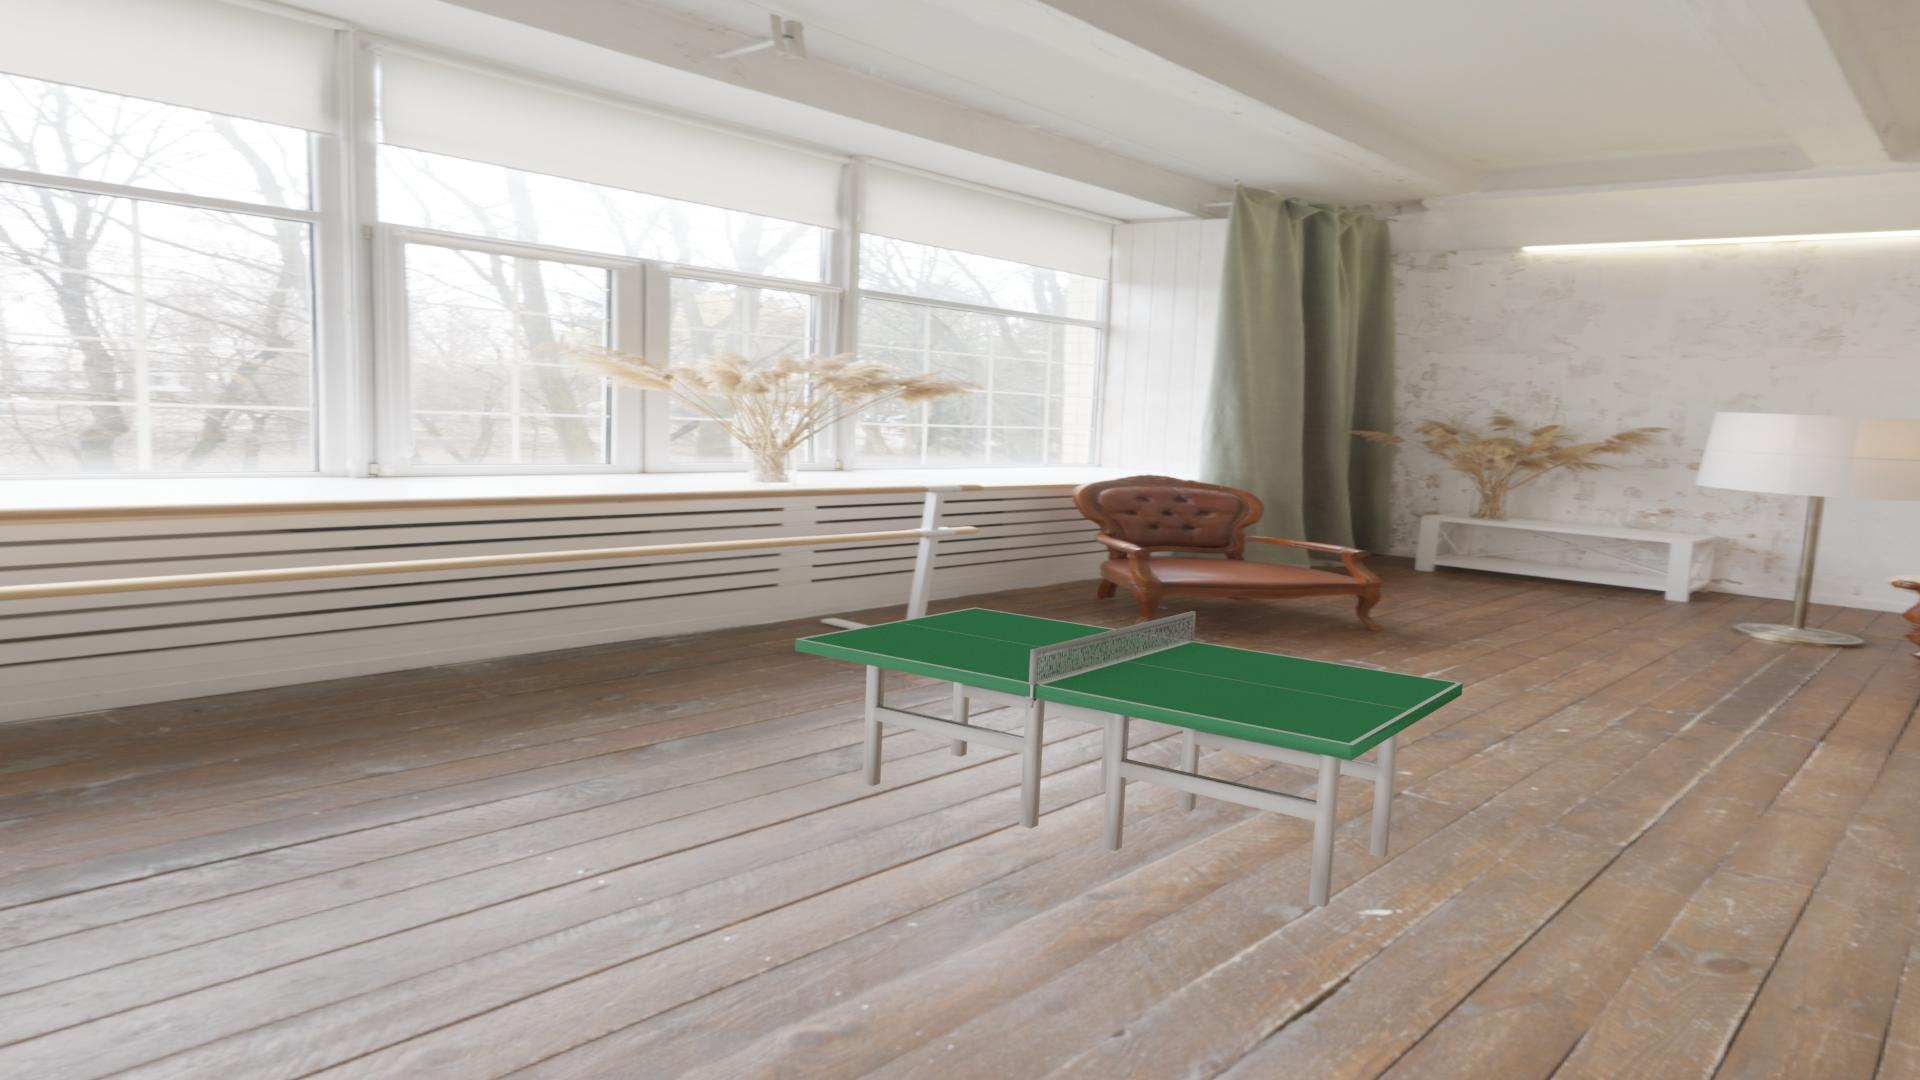table: (802, 608, 1457, 744)
